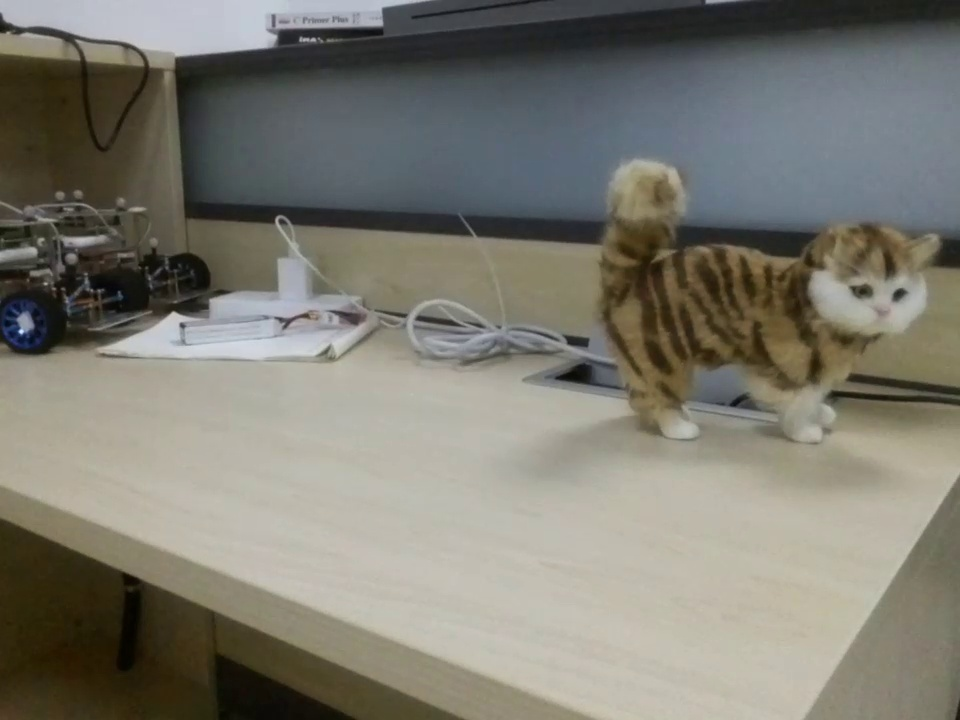cat: (579, 141, 947, 473)
